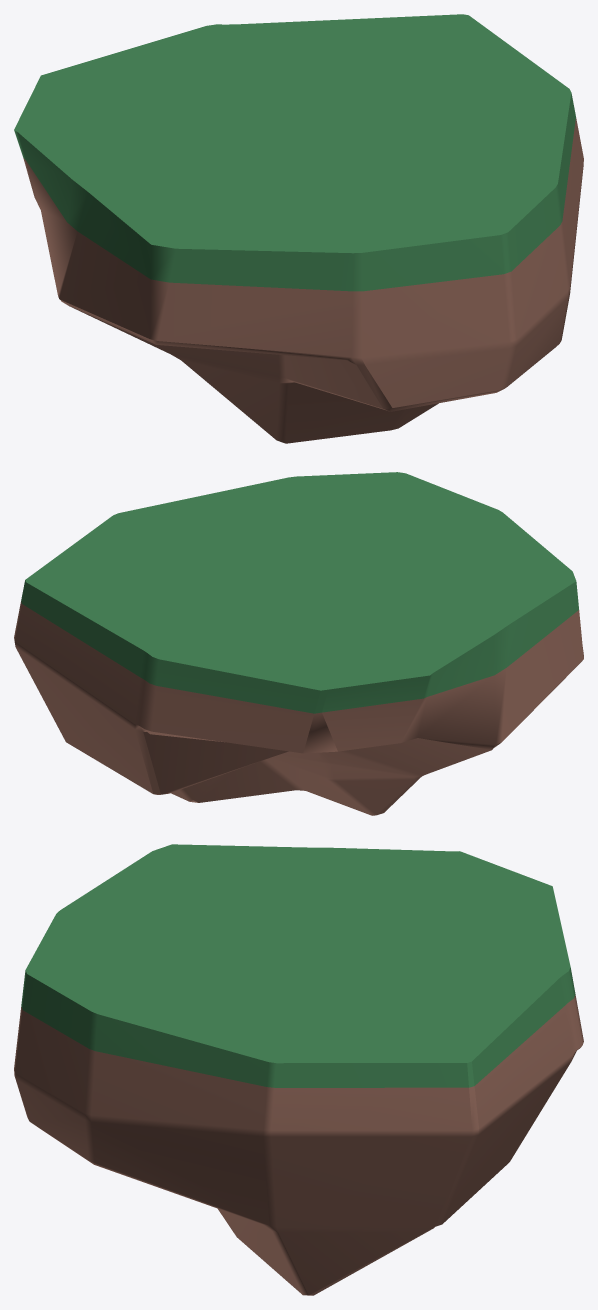
Rendered from FloatingIsland.fbx.
The picture shows the model from 3 angles, top to bottom: view 1: azimuth 30°, elevation 25°; view 2: azimuth 150°, elevation 25°; view 3: azimuth 270°, elevation 25°; orthographic projection. The views are drawn at different scales.
Parts seen in each view (by area): view 1: pSphere1; view 2: pSphere1; view 3: pSphere1.
Boxes of the visible parts, x1=… form: pSphere1: x1=14, y1=14, x2=583, y2=443; pSphere1: x1=14, y1=472, x2=583, y2=815; pSphere1: x1=14, y1=844, x2=583, y2=1295.
Size of the model in its own units: 878 by 478 by 938.
